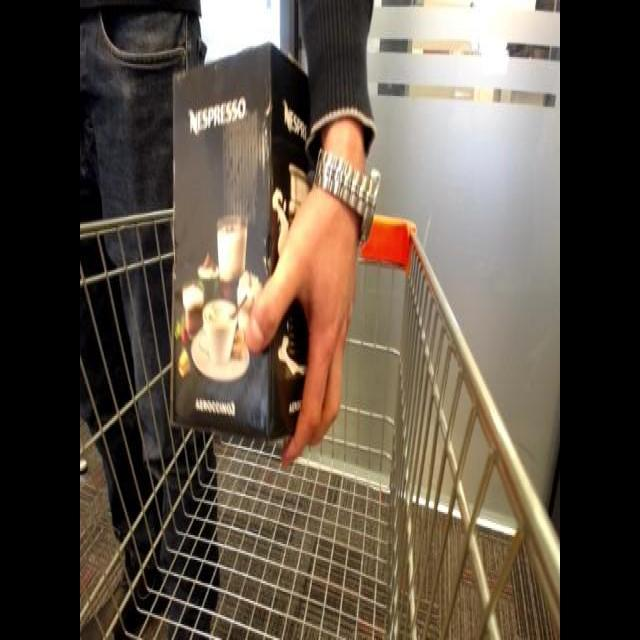Nespresso: (155, 31, 349, 453)
